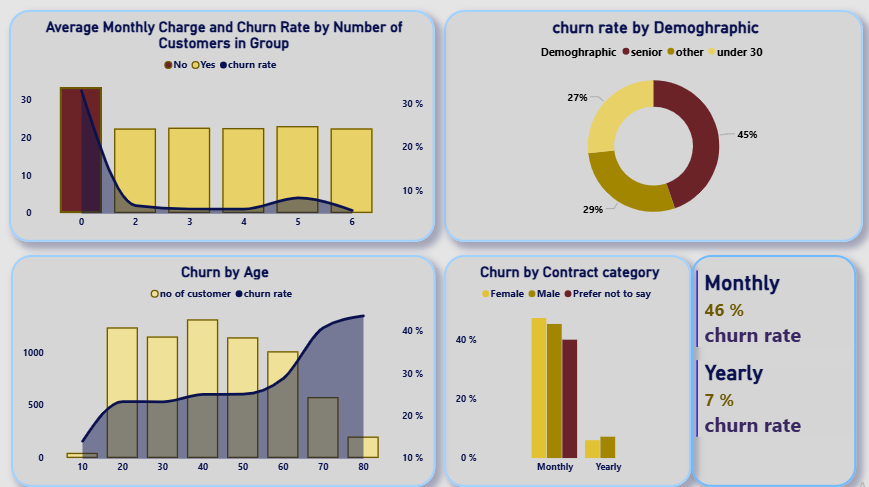

The page's visual inventory and layout, read from the dashboard file:
{"tool":"powerbi","page":{"name":"Groups and categories","canvas":[1280,720],"ordinal":1},"visuals":[{"type":"donutChart","fields":{"Category":["Databel - Data.Demoghraphic"],"Y":["Databel - Data.churn rate"]},"box":[652.3,18.7,616.3,341.3],"z":0},{"type":"lineClusteredColumnComboChart","title":" Churn by Age","fields":{"Y":["Databel - Data.no of customer"],"Y2":["Databel - Data.churn rate"],"Category":["Databel - Data.Age (bins)"]},"box":[15.8,378.7,623.5,341.3],"z":1000},{"type":"lineStackedColumnComboChart","title":"Average Monthly Charge and Churn Rate by Number of Customers in Group","fields":{"Y2":["Databel - Data.churn rate"],"Y":["Avg(Databel - Data.Monthly Charge)"],"Category":["Databel - Data.Number of Customers in Group"],"Series":["Databel - Data.Group"]},"box":[13,18.7,626.4,341.3],"z":2000},{"type":"clusteredColumnChart","title":"Churn by Contract category","fields":{"Category":["Databel - Data.Contract category"],"Series":["Databel - Data.Gender"],"Y":["Databel - Data.churn rate"]},"box":[652.3,378.7,364.3,341.3],"z":3000},{"type":"multiRowCard","fields":{"Values":["Databel - Data.churn rate","Databel - Data.Contract category"]},"box":[1016.6,378.7,243.4,341.3],"z":4000}]}

Visuals, with their boxes in screenshot pixels (x1, y1, x2, y2), scaled from the page's 1280x720 canvas onto the 869x487 screenshot:
donutChart - Databel - Data.Demoghraphic x Databel - Data.churn rate: x1=443 y1=13 x2=861 y2=244
" Churn by Age" lineClusteredColumnComboChart: x1=11 y1=256 x2=434 y2=486
"Average Monthly Charge and Churn Rate by Number of Customers in Group" lineStackedColumnComboChart: x1=9 y1=13 x2=434 y2=244
"Churn by Contract category" clusteredColumnChart: x1=443 y1=256 x2=690 y2=486
multiRowCard - Databel - Data.churn rate x Databel - Data.Contract category: x1=690 y1=256 x2=855 y2=486
